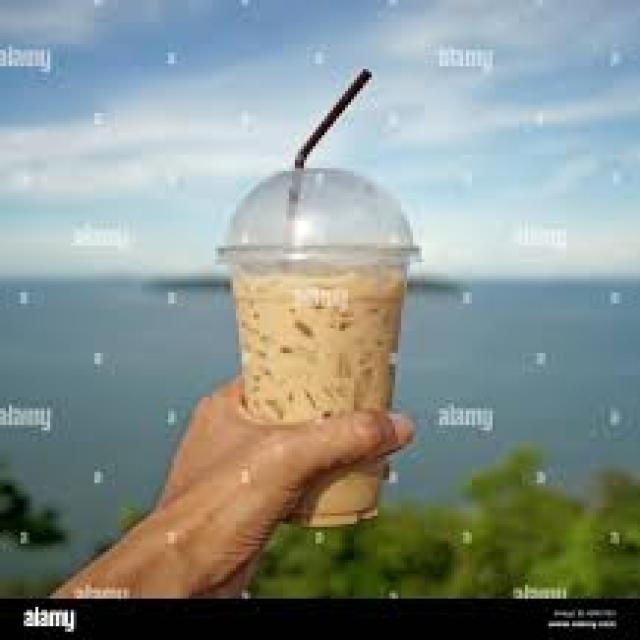bottle: (233, 260, 406, 424), (295, 461, 382, 527)
